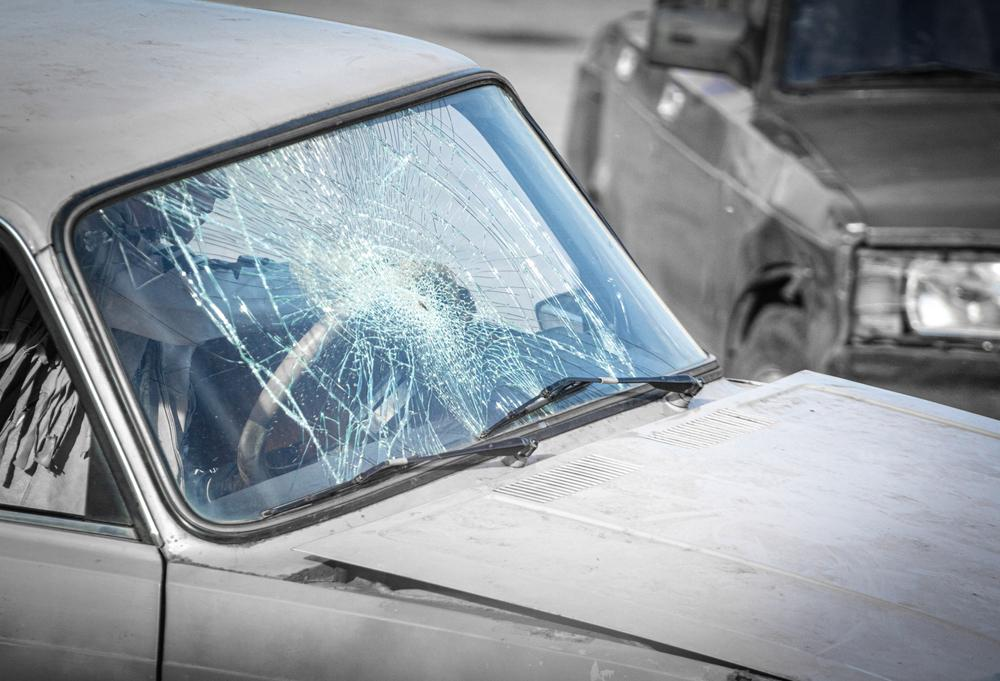glass shatter: (68, 84, 716, 524)
